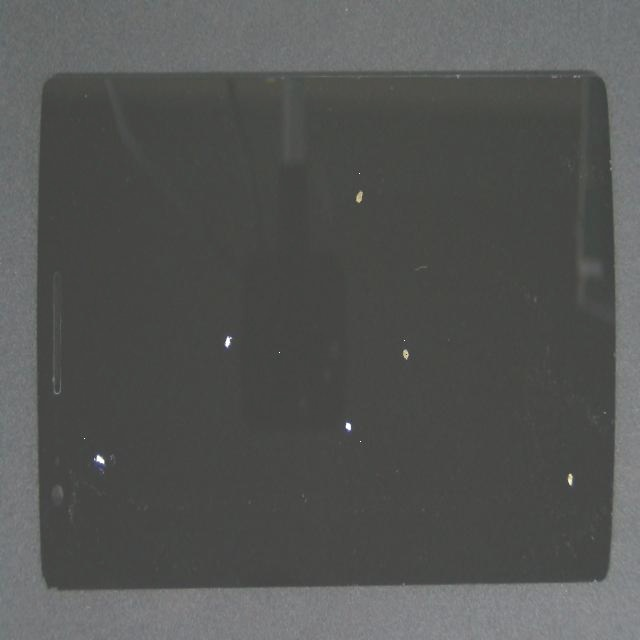stain: (177, 148, 590, 544), (247, 271, 640, 640), (192, 165, 512, 606), (169, 114, 520, 341), (102, 184, 308, 551), (17, 202, 142, 640)
